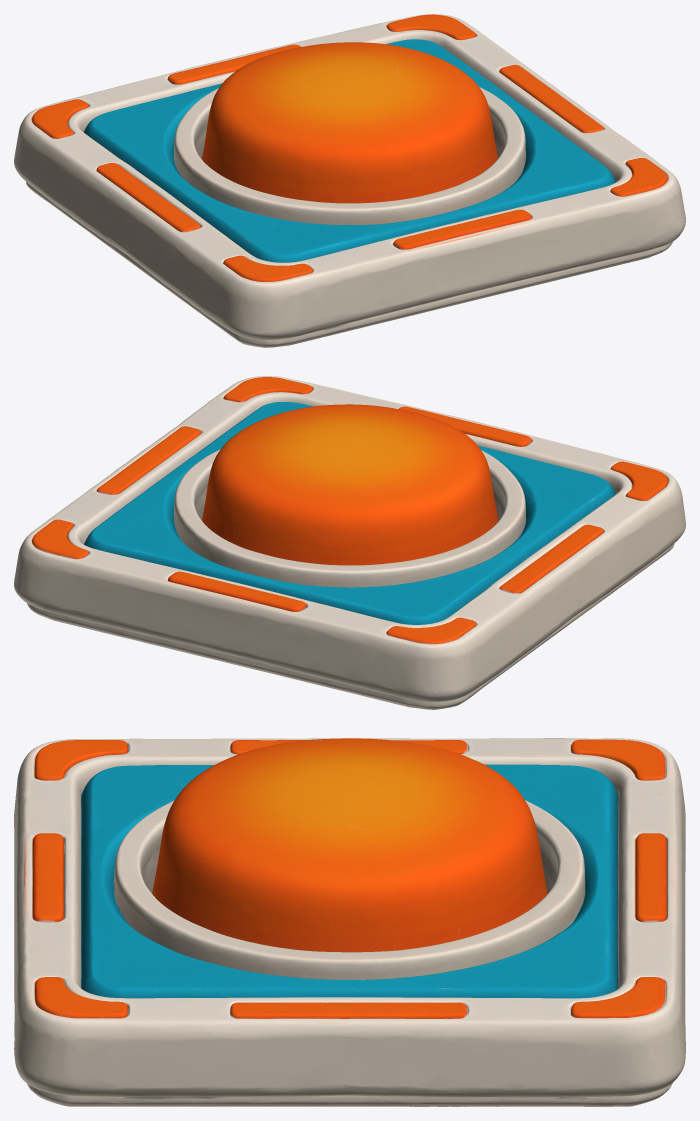
Rendered from Meshy_AI_roofline_floor_button_1024085435_image-to-3d-texture.glb.
3 views of the same model, one above another, from view 1: azimuth 30°, elevation 25°; view 2: azimuth 150°, elevation 25°; view 3: azimuth 270°, elevation 25° (orthographic). The views are drawn at different scales.
Size of the model in its own units: 1.9 by 0.5246 by 1.83.
1 material, 1 textured.
